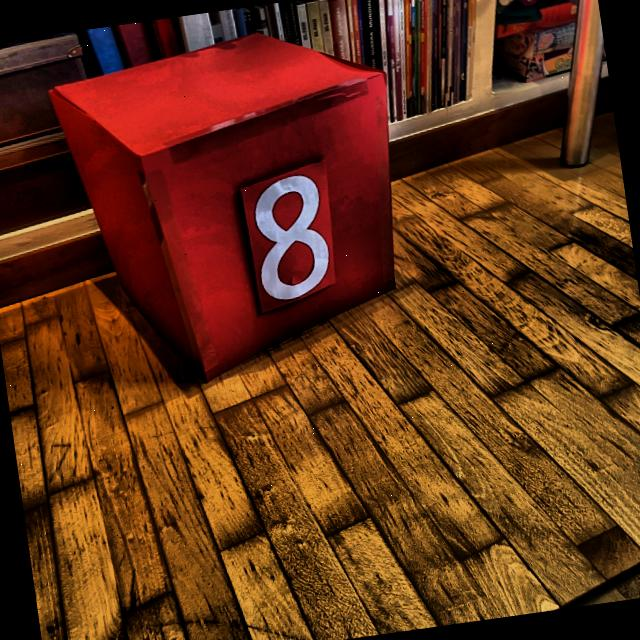eight: (243, 168, 337, 310)
red box: (42, 14, 419, 398)
